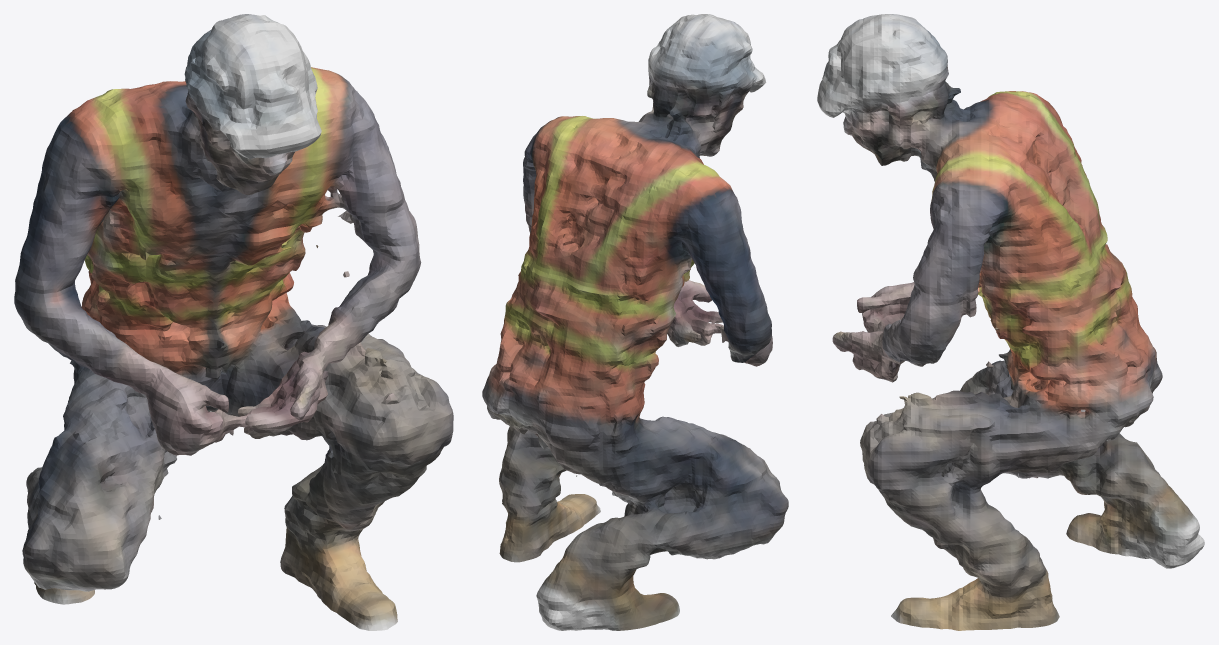
Rendered from standup_0.glb.
3 renders of one model, left to right at view 1: azimuth 30°, elevation 25°; view 2: azimuth 150°, elevation 25°; view 3: azimuth 270°, elevation 25°, orthographic. The views are drawn at different scales.
Parts seen in each view (by area): view 1: world; view 2: world; view 3: world.
Part boxes in pixels (x1=…): world: x1=14, y1=14, x2=453, y2=630; world: x1=482, y1=14, x2=788, y2=630; world: x1=817, y1=14, x2=1204, y2=630.
Size of the model in its own units: 0.7483 by 1.27 by 0.8214.
